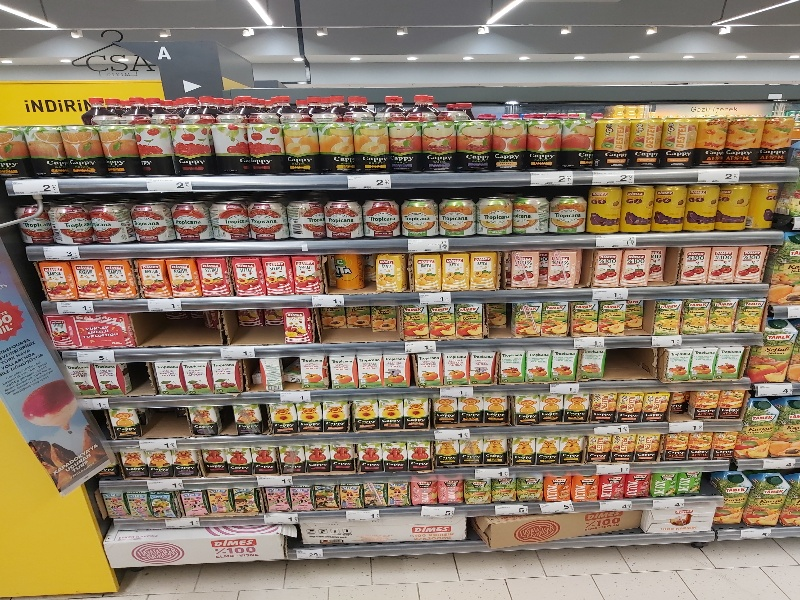urun1: (472, 513, 639, 550), (756, 317, 797, 383), (22, 122, 64, 175), (659, 115, 696, 169), (134, 119, 168, 175), (281, 116, 315, 172), (388, 118, 422, 174), (456, 113, 490, 169), (492, 111, 526, 167), (525, 113, 559, 169), (563, 114, 597, 170), (758, 470, 793, 524), (627, 115, 662, 166), (652, 180, 685, 234), (131, 199, 172, 241), (209, 199, 247, 241), (440, 195, 478, 237), (475, 193, 513, 235), (509, 193, 547, 235), (102, 254, 134, 303), (137, 256, 169, 305), (167, 254, 199, 303), (198, 255, 230, 304), (231, 257, 263, 306), (687, 178, 717, 227), (718, 182, 748, 231), (545, 248, 579, 291), (620, 245, 652, 286), (676, 244, 708, 285), (736, 243, 768, 284), (260, 253, 290, 296), (179, 357, 212, 395), (332, 252, 361, 293), (374, 250, 403, 291), (511, 243, 540, 284), (18, 202, 46, 243), (667, 343, 695, 384), (593, 247, 620, 289), (585, 429, 612, 470), (172, 442, 201, 480), (110, 407, 140, 443), (185, 405, 215, 441), (119, 443, 146, 481), (256, 354, 282, 393), (468, 345, 494, 384), (500, 343, 526, 382), (401, 302, 428, 338), (297, 399, 323, 436), (322, 398, 348, 435), (351, 396, 377, 433), (203, 483, 229, 520), (233, 480, 259, 517), (263, 483, 289, 520), (289, 479, 315, 516), (307, 479, 333, 516), (359, 478, 385, 515), (492, 470, 518, 507), (543, 469, 569, 506), (576, 471, 602, 508), (484, 389, 509, 427), (735, 296, 762, 331), (251, 441, 278, 476), (329, 439, 356, 474), (355, 437, 382, 472), (381, 438, 408, 473), (431, 435, 458, 470), (534, 432, 561, 467), (557, 428, 584, 463), (712, 427, 739, 462), (538, 388, 563, 425), (643, 388, 668, 425), (50, 318, 72, 352)
urun2: (101, 523, 289, 568), (288, 515, 476, 550), (75, 313, 136, 352), (742, 398, 780, 457), (246, 115, 281, 171), (62, 118, 96, 174), (96, 117, 130, 173), (173, 117, 207, 173), (208, 118, 242, 174), (313, 117, 347, 173), (353, 117, 387, 173), (423, 116, 457, 172), (595, 112, 629, 168), (716, 472, 751, 526), (587, 179, 620, 233), (623, 183, 656, 237), (89, 201, 130, 243), (696, 113, 729, 165), (730, 114, 763, 166), (765, 112, 798, 164), (174, 198, 212, 240), (250, 197, 288, 239), (288, 195, 326, 237), (323, 196, 361, 238), (363, 196, 401, 238), (399, 192, 437, 234), (548, 194, 586, 236), (50, 200, 87, 243), (41, 254, 73, 303), (72, 256, 104, 305), (748, 180, 778, 229), (1, 123, 27, 175), (279, 306, 313, 345), (706, 243, 738, 284), (293, 256, 323, 299), (206, 356, 239, 394), (454, 302, 484, 342), (411, 255, 440, 296), (440, 250, 469, 291), (469, 249, 498, 290), (608, 425, 635, 466), (690, 341, 717, 381), (719, 344, 746, 384), (570, 297, 595, 340), (232, 399, 262, 433), (265, 401, 295, 435), (150, 358, 179, 393), (300, 350, 326, 389), (327, 350, 353, 389), (356, 349, 382, 388), (382, 349, 408, 388), (414, 350, 440, 389), (441, 348, 467, 387), (524, 342, 550, 381), (552, 343, 578, 382), (515, 298, 540, 338), (542, 297, 567, 337), (144, 446, 172, 481), (692, 385, 717, 424), (429, 303, 456, 339), (375, 394, 401, 431), (404, 394, 430, 431), (151, 486, 177, 523), (179, 482, 205, 519), (387, 474, 413, 511), (335, 477, 361, 514), (416, 471, 442, 508), (437, 473, 463, 510), (467, 471, 493, 508), (520, 469, 546, 506), (603, 468, 629, 505), (656, 464, 682, 501), (94, 362, 126, 392), (432, 390, 457, 428), (457, 388, 482, 426), (597, 301, 624, 336), (657, 297, 684, 332), (682, 298, 709, 333), (711, 296, 738, 331), (227, 441, 254, 476), (276, 441, 303, 476), (303, 438, 330, 473), (404, 435, 431, 470), (458, 433, 485, 468), (482, 431, 509, 466), (510, 432, 537, 467), (634, 423, 661, 458), (662, 426, 689, 461), (687, 426, 714, 461), (514, 390, 539, 427), (564, 390, 589, 427), (592, 388, 617, 425), (617, 389, 642, 426), (580, 348, 604, 380), (201, 441, 222, 475), (103, 488, 124, 522), (129, 487, 150, 521)
